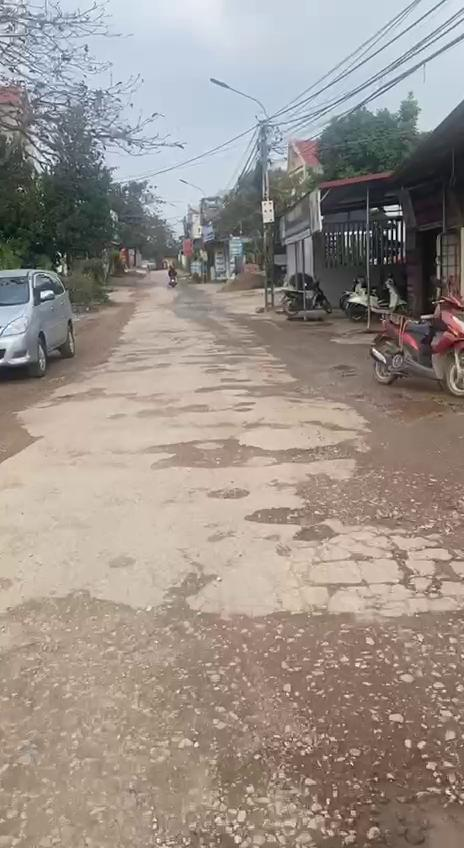pothole: (0, 607, 464, 848), (246, 468, 464, 545), (385, 547, 464, 609), (138, 434, 258, 472), (261, 436, 373, 472), (378, 384, 464, 427), (194, 378, 320, 400), (42, 389, 134, 404), (137, 404, 218, 418)
